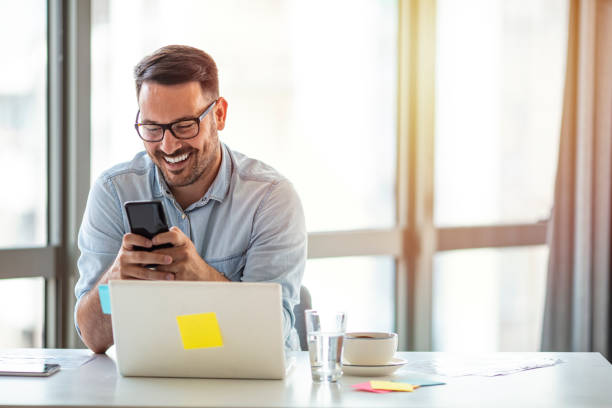without mask: (126, 42, 231, 188)
